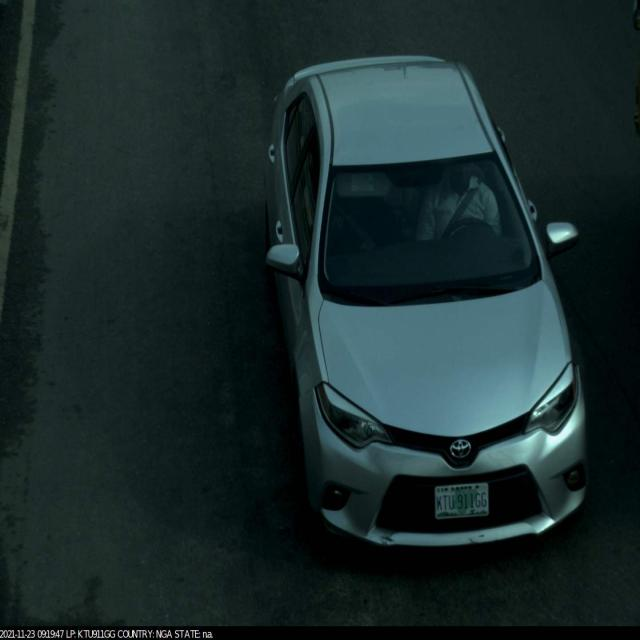windshield: (309, 144, 539, 294)
